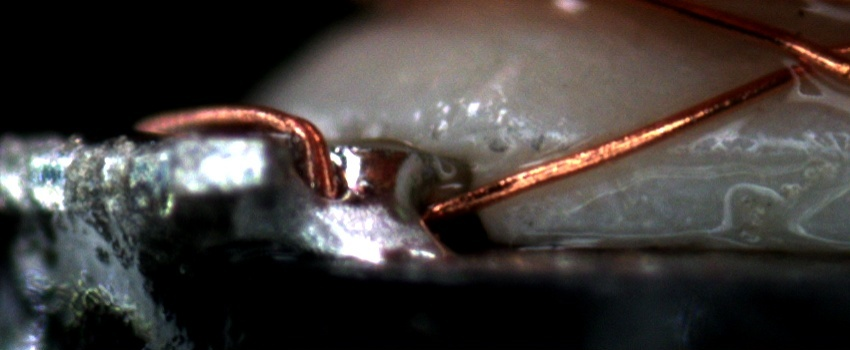CL: (757, 26, 843, 95)
DL: (546, 113, 849, 177)
TE: (134, 100, 350, 199)
